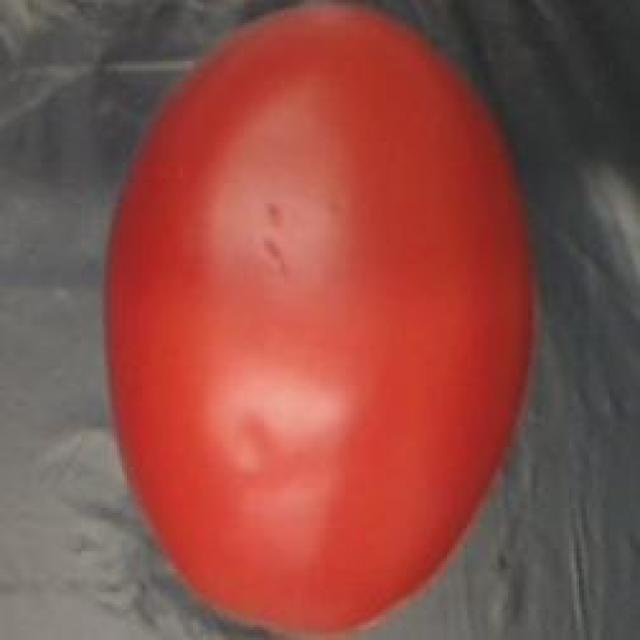ripe tomato: (91, 0, 541, 640)
